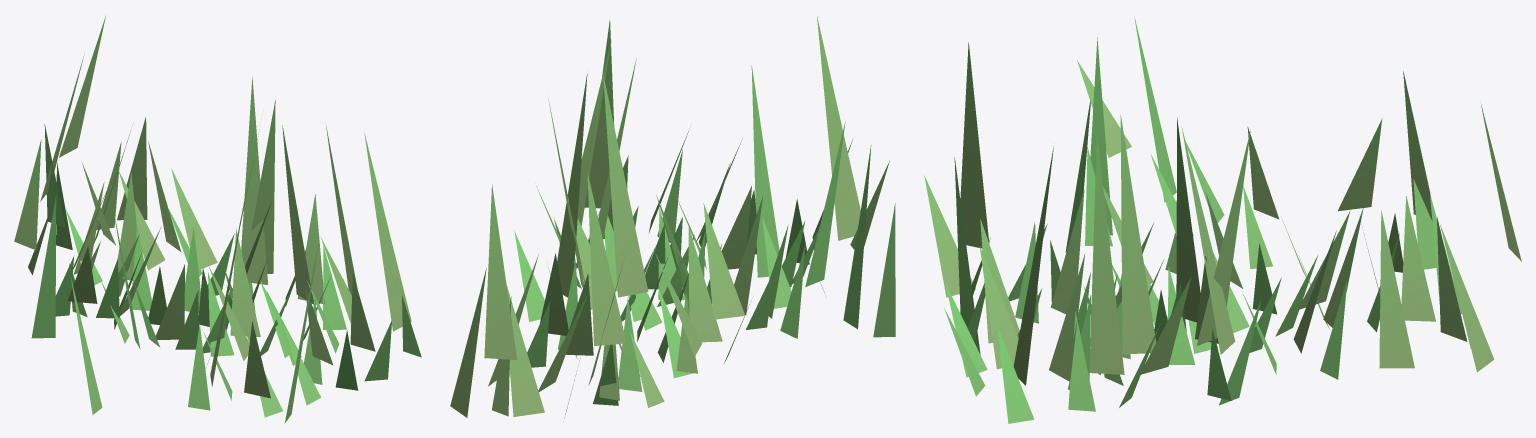
File: grass_touffe_1.fbx
3 views of the same model, side by side, from view 1: azimuth 30°, elevation 25°; view 2: azimuth 150°, elevation 25°; view 3: azimuth 270°, elevation 25° (orthographic). The views are drawn at different scales.
Visible parts, largest first — view 1: grass_touffe_1; view 2: grass_touffe_1; view 3: grass_touffe_1.
Boxes of the visible parts, bbox=[...] form: grass_touffe_1: bbox=[14, 16, 421, 423]; grass_touffe_1: bbox=[450, 16, 895, 418]; grass_touffe_1: bbox=[924, 16, 1521, 423].
Bounding box in the file's own units: 17.05 × 13.16 × 23.84.
